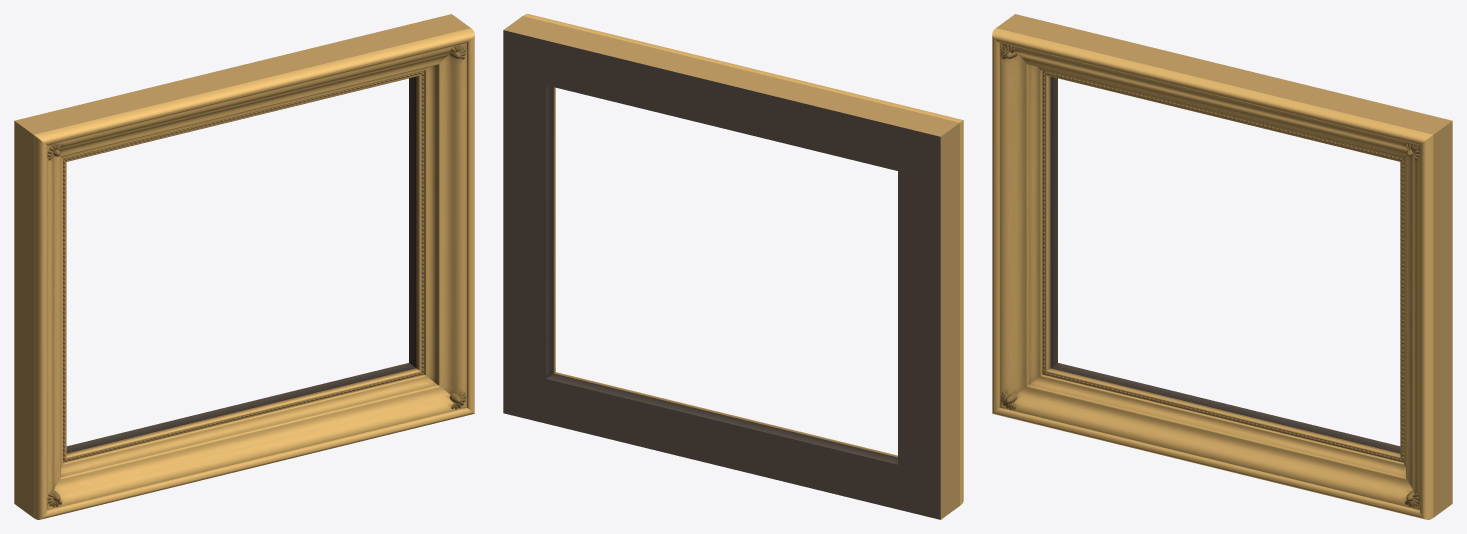
The model's file is 11-kuvshinki.glb.
3 renders of one model, left to right at view 1: azimuth 30°, elevation 25°; view 2: azimuth 150°, elevation 25°; view 3: azimuth 330°, elevation 25°, orthographic.
Parts seen in each view (by area): view 1: Frame; view 2: Frame; view 3: Frame.
Part boxes in pixels (<box>): Frame: <box>14,14,474,519</box>; Frame: <box>503,14,963,519</box>; Frame: <box>992,14,1452,519</box>.
Bounding box in the file's own units: 1.53 × 1.28 × 0.162.
